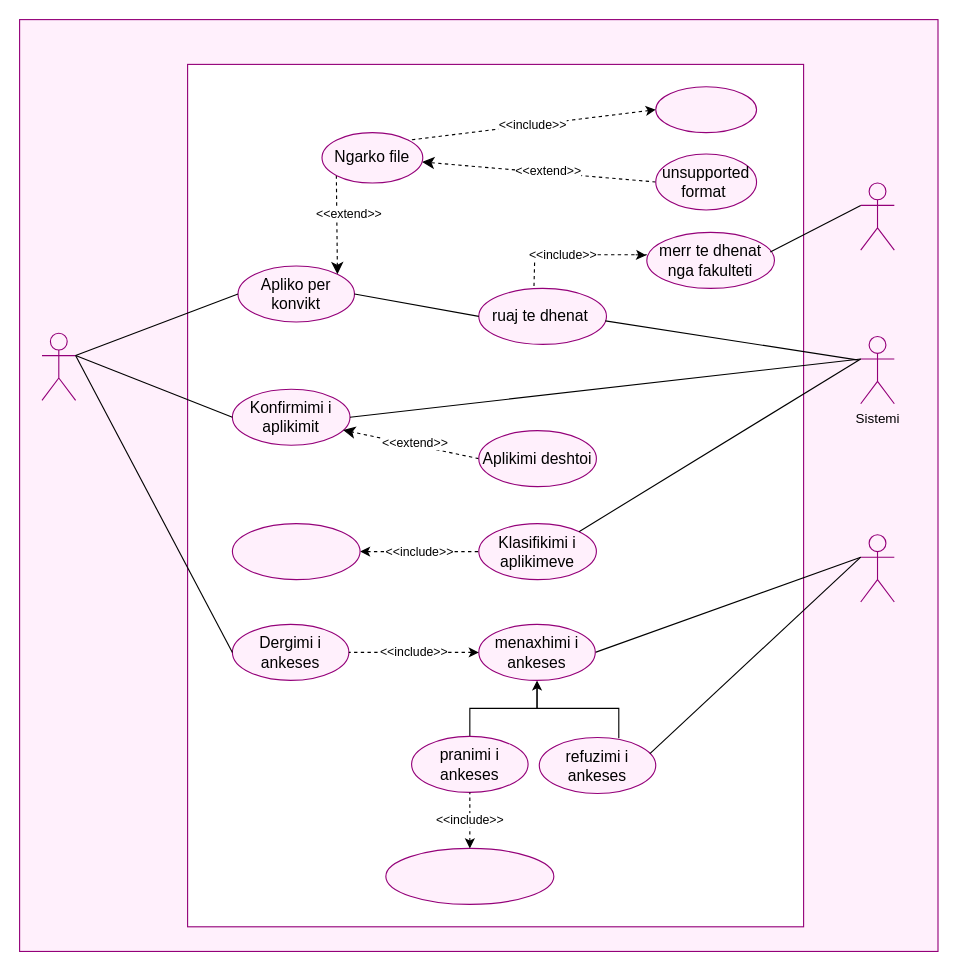
Some shapes in this 958 by 971 pixel diagram are drawn without their labels. Here are the shapes that lost their labels. From the top down, the box of each, then its label:
(655, 86, 757, 133): validimi
(860, 182, 894, 250): Fakulteti
(41, 332, 76, 400): Studenti
(231, 522, 360, 580): Gjenerimi i listes se pranuarve
(860, 534, 894, 602): Drejtori
(385, 847, 554, 904): shto studentin ne listen e te pranuarve
